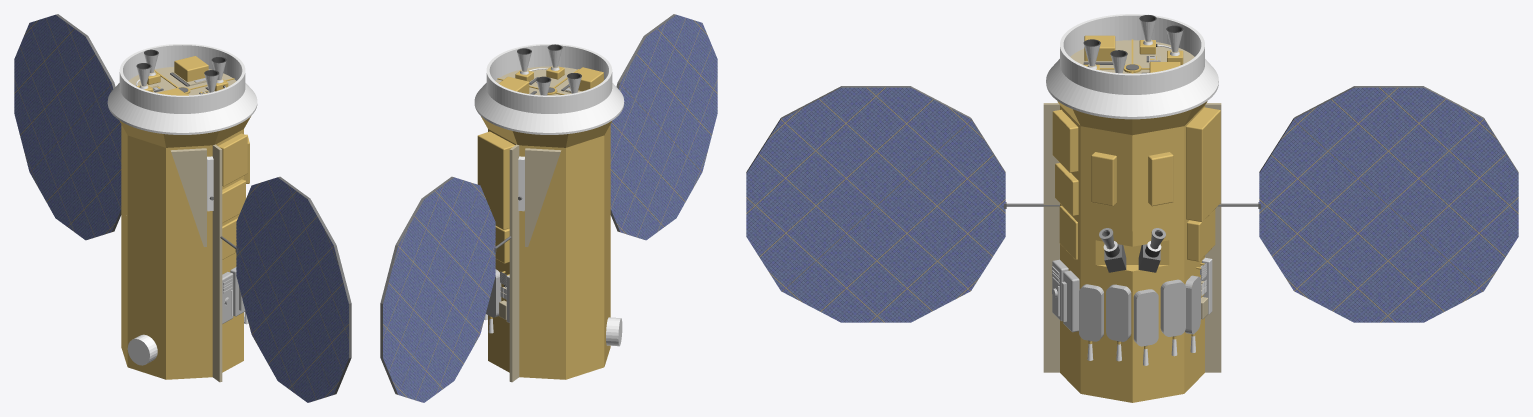
File: Deformation, Ecosystem Structure, and Dynamics of Ice (DESDynI).glb
3 views of the same model, side by side, from view 1: azimuth 30°, elevation 25°; view 2: azimuth 150°, elevation 25°; view 3: azimuth 270°, elevation 25° (orthographic). The views are drawn at different scales.
Visible parts, largest first — view 1: Layer_0, Layer_1; view 2: Layer_0, Layer_1; view 3: Layer_1, Layer_0.
Boxes of the visible parts, box(x1,y1,x2,y2) form: Layer_0: box(107, 44, 257, 382); Layer_1: box(14, 14, 351, 402); Layer_0: box(474, 44, 624, 382); Layer_1: box(380, 14, 717, 402); Layer_1: box(746, 86, 1518, 322); Layer_0: box(1043, 14, 1221, 402).
Bounding box in the file's own units: 4.79 × 10.2 × 21.28.
